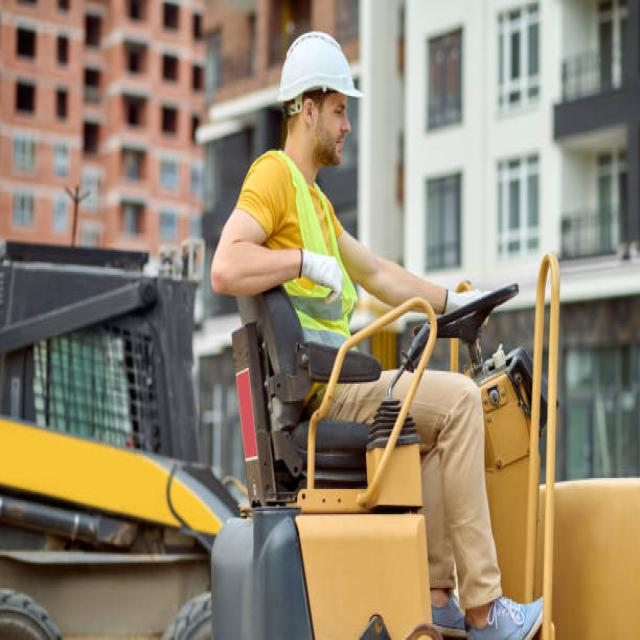Gloves: (298, 243, 347, 309), (444, 281, 496, 319)
Vest: (271, 146, 359, 343)
helmet: (276, 31, 364, 107)
person: (207, 31, 544, 640)
